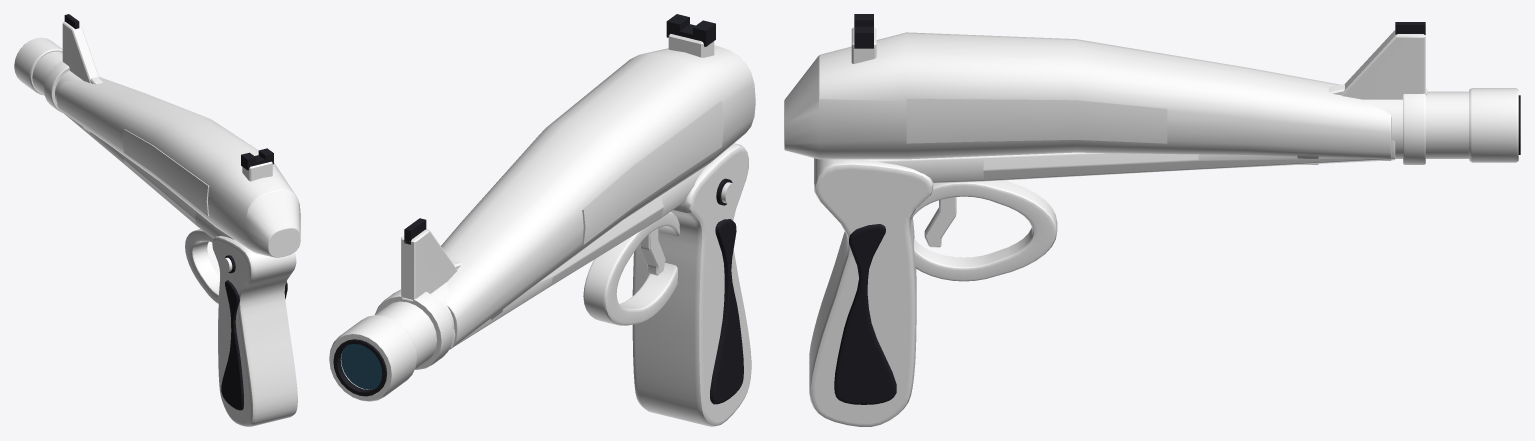
Rendered from game-energy-gun.glb.
3 renders of one model, left to right at view 1: azimuth 30°, elevation 25°; view 2: azimuth 150°, elevation 25°; view 3: azimuth 270°, elevation 25°, orthographic. The views are drawn at different scales.
Parts seen in each view (by area): view 1: part_flowing_energy_carapace, part_energy_grip_web, part_curved_carapace_service_strip_-1, part_swept_palm_insert_-1, part_underslung_power_spine, part_energy_guard, part_front_sight_riser, part_lens_hood, part_induction_core, part_core_retaining_band_150, rear_sight_geometry_lod0, part_rear_sight_riser; view 2: part_flowing_energy_carapace, part_energy_grip_web, part_curved_carapace_service_strip_-1, part_energy_guard, part_underslung_power_spine, part_swept_palm_insert_-1, part_lens_hood, part_front_sight_riser, part_induction_core, part_core_retaining_band_150, part_deep_optical_lens, rear_sight_geometry_lod0 (+3 smaller); view 3: part_flowing_energy_carapace, part_energy_grip_web, part_curved_carapace_service_strip_1, part_underslung_power_spine, part_energy_guard, part_swept_palm_insert_1, part_front_sight_riser, part_induction_core, part_lens_hood, part_core_retaining_band_150, part_curved_trigger, rear_sight_geometry_lod0.
Part boxes in pixels (x1,y1,x2,y2): part_flowing_energy_carapace: (57, 77, 300, 257); part_energy_grip_web: (212, 235, 297, 426); part_curved_carapace_service_strip_-1: (122, 129, 209, 216); part_swept_palm_insert_-1: (221, 280, 243, 410); part_underslung_power_spine: (59, 109, 234, 239); part_energy_guard: (185, 229, 219, 303); part_front_sight_riser: (62, 22, 99, 83); part_lens_hood: (14, 37, 62, 95); part_induction_core: (32, 51, 82, 101); part_core_retaining_band_150: (44, 61, 69, 112); rear_sight_geometry_lod0: (241, 148, 273, 170); part_rear_sight_riser: (242, 161, 272, 181); part_flowing_energy_carapace: (441, 45, 755, 349); part_energy_grip_web: (632, 143, 751, 426); part_curved_carapace_service_strip_-1: (582, 101, 723, 244); part_energy_guard: (583, 211, 679, 325); part_underslung_power_spine: (449, 165, 707, 349); part_swept_palm_insert_-1: (710, 219, 743, 404); part_lens_hood: (329, 315, 416, 401); part_front_sight_riser: (401, 229, 457, 304); part_induction_core: (375, 282, 454, 369); part_core_retaining_band_150: (375, 289, 453, 369); part_deep_optical_lens: (341, 344, 382, 389); rear_sight_geometry_lod0: (666, 14, 715, 46); part_flowing_energy_carapace: (784, 32, 1391, 160); part_energy_grip_web: (809, 158, 933, 426); part_curved_carapace_service_strip_1: (906, 98, 1167, 143); part_underslung_power_spine: (865, 140, 1395, 183); part_energy_guard: (911, 180, 1057, 281); part_swept_palm_insert_1: (834, 224, 896, 404); part_front_sight_riser: (1341, 30, 1425, 99); part_induction_core: (1363, 91, 1469, 158); part_lens_hood: (1469, 88, 1518, 162); part_core_retaining_band_150: (1403, 93, 1425, 164); part_curved_trigger: (924, 197, 956, 247); rear_sight_geometry_lod0: (854, 14, 873, 48).
Size of what is drawn, in the model's own units: 0.0496 by 0.172 by 0.295.
